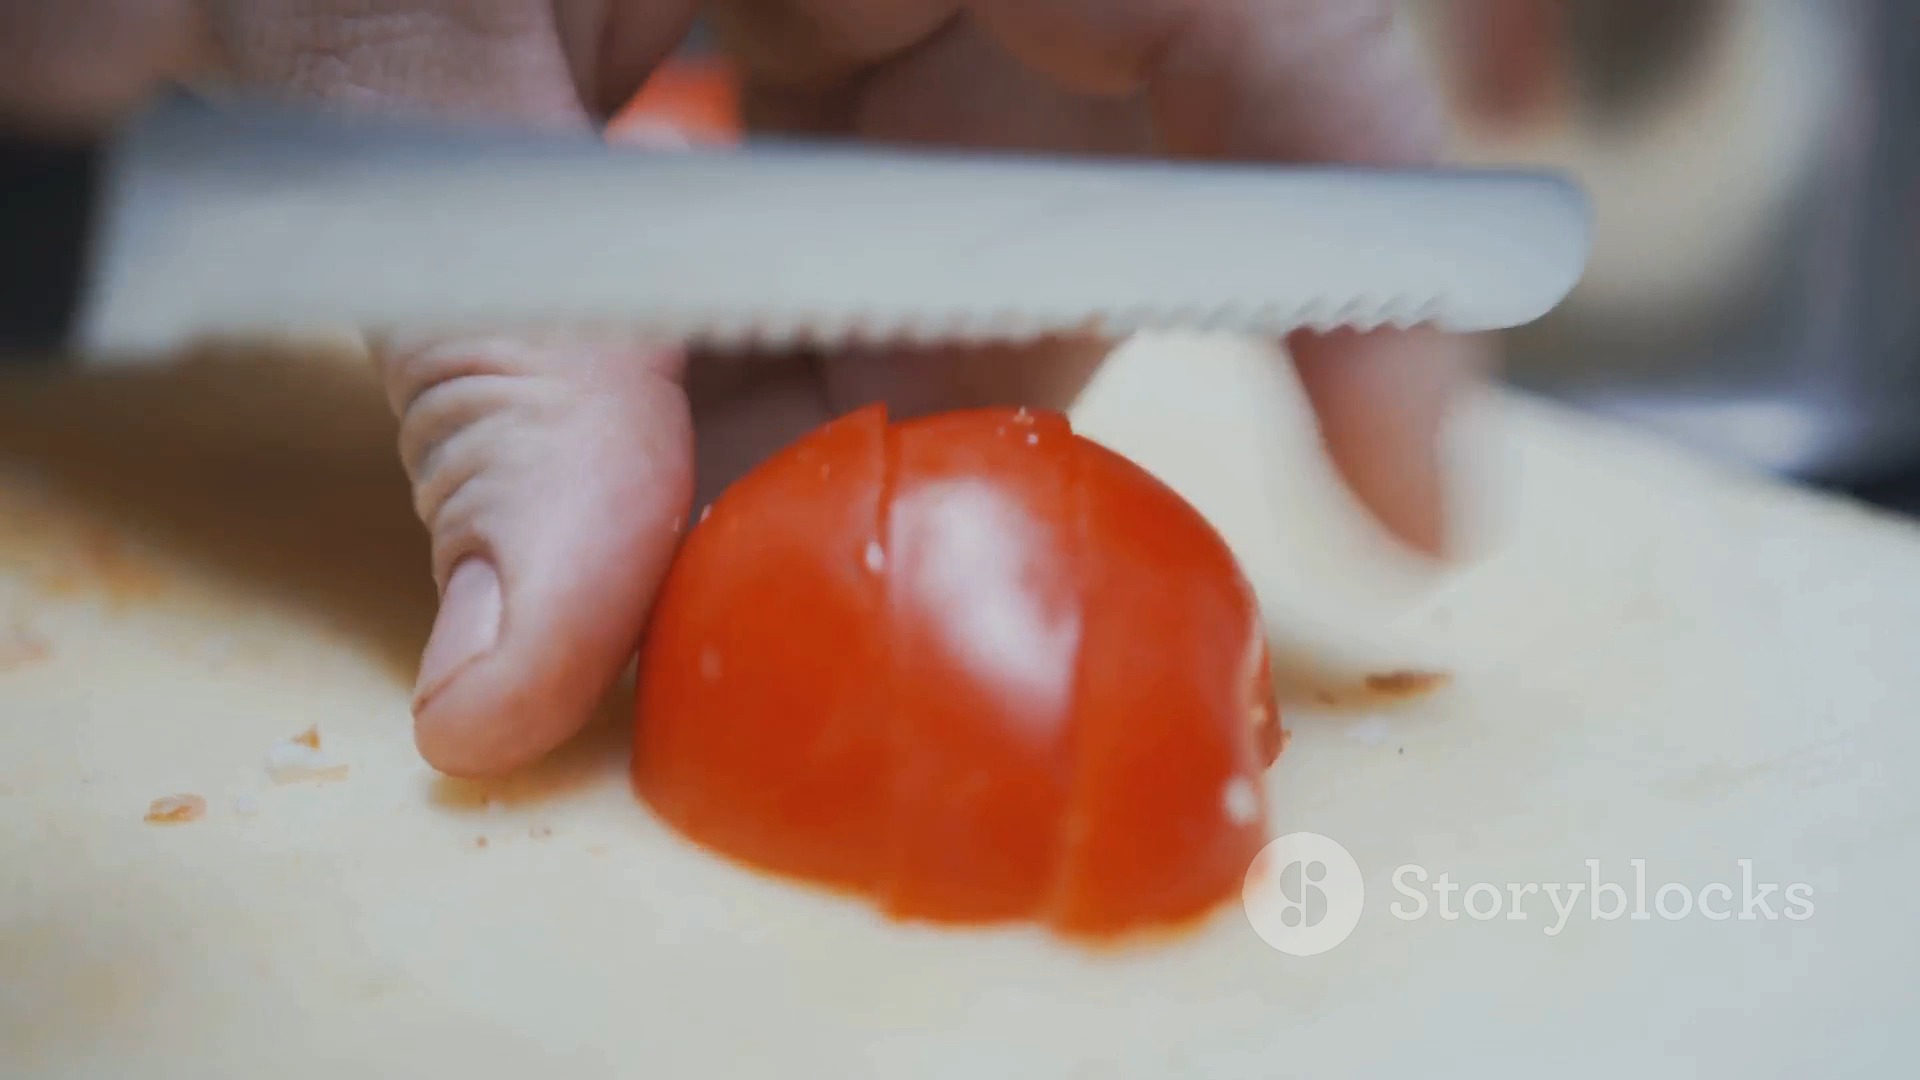cortante: (69, 109, 1594, 371)
